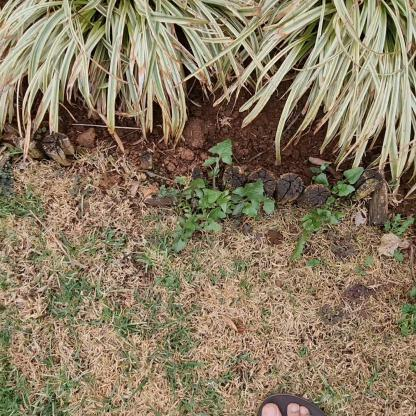Weeds: (158, 140, 274, 254), (290, 162, 365, 267), (381, 213, 414, 261)
